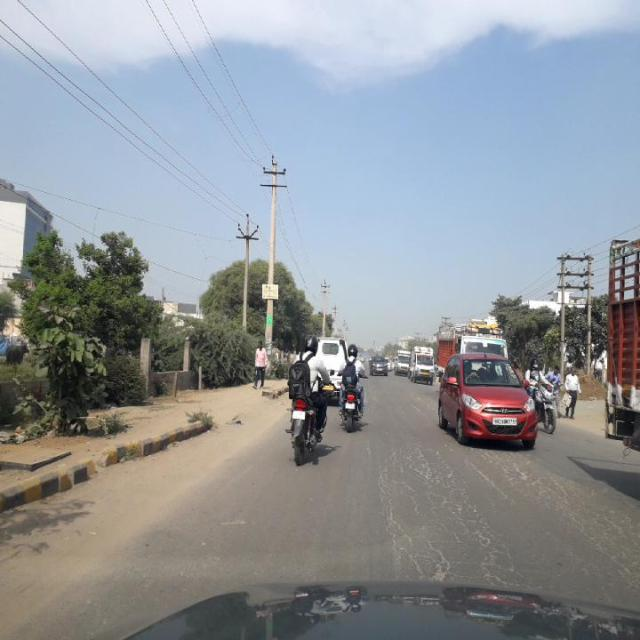Surface Erosion: (0, 339, 640, 576)
